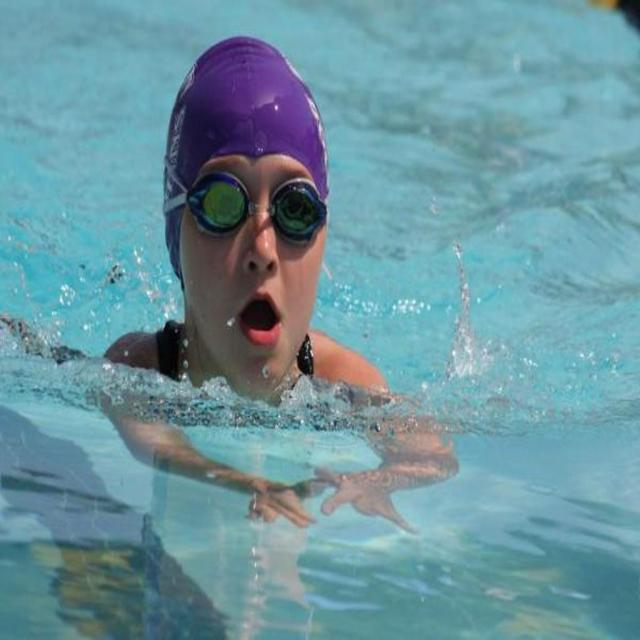Face: (185, 163, 321, 399)
